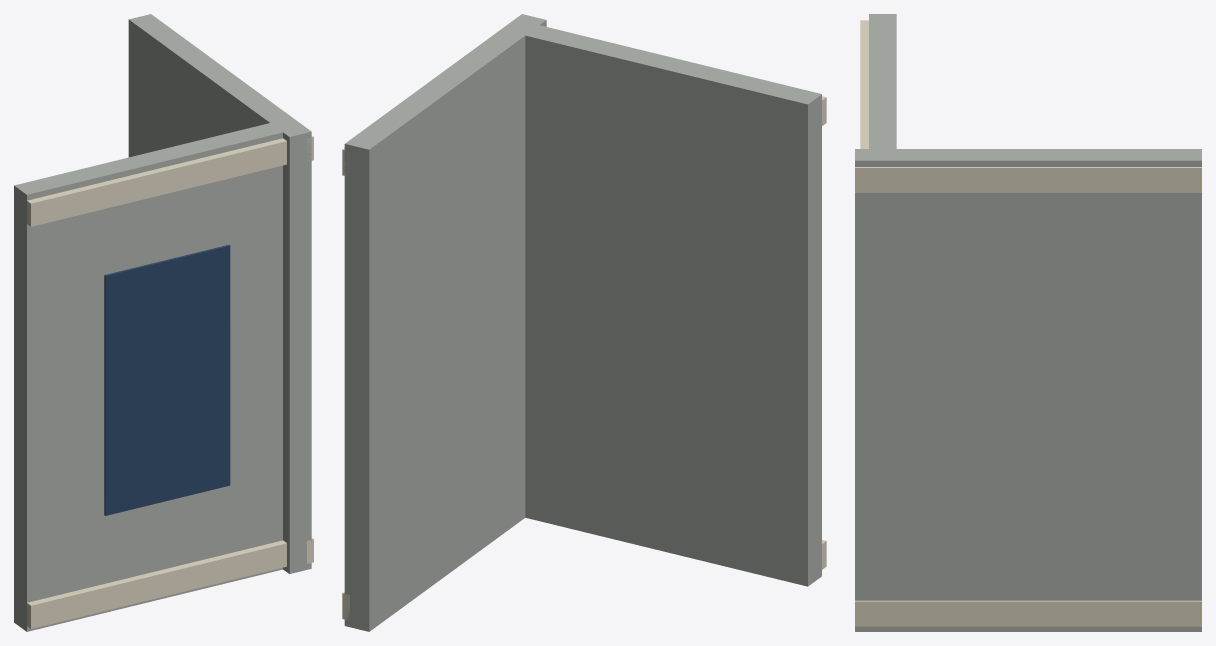
File: facade-corner-2m.glb
The picture shows the model from 3 angles, left to right: view 1: azimuth 30°, elevation 25°; view 2: azimuth 150°, elevation 25°; view 3: azimuth 270°, elevation 25°; orthographic projection. The views are drawn at different scales.
Visible parts, largest first — view 1: facade-corner-2m; view 2: facade-corner-2m; view 3: facade-corner-2m.
Part boxes in pixels (<box>): facade-corner-2m: <box>14,14,313,631</box>; facade-corner-2m: <box>342,14,826,631</box>; facade-corner-2m: <box>855,14,1201,631</box>.
Size of the model in its own units: 2.01 by 3 by 2.
1 material, 1 textured.
